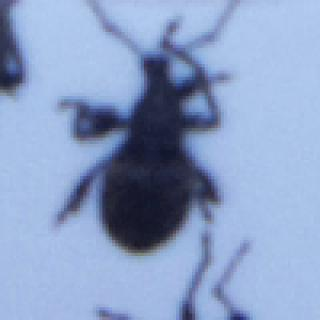bvw: (54, 0, 240, 252)
